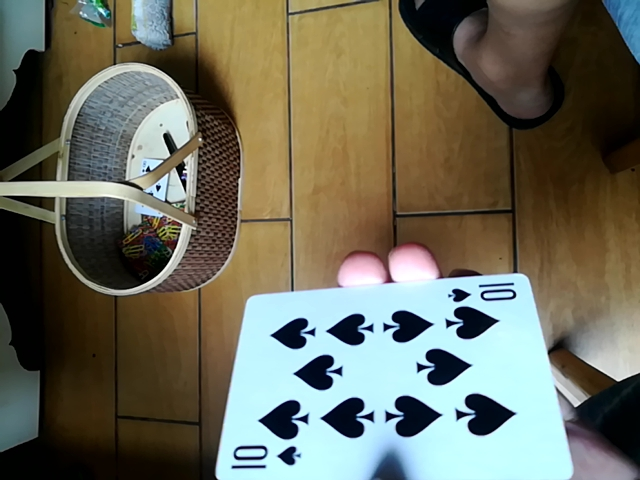ht 10: (223, 276, 568, 478)
